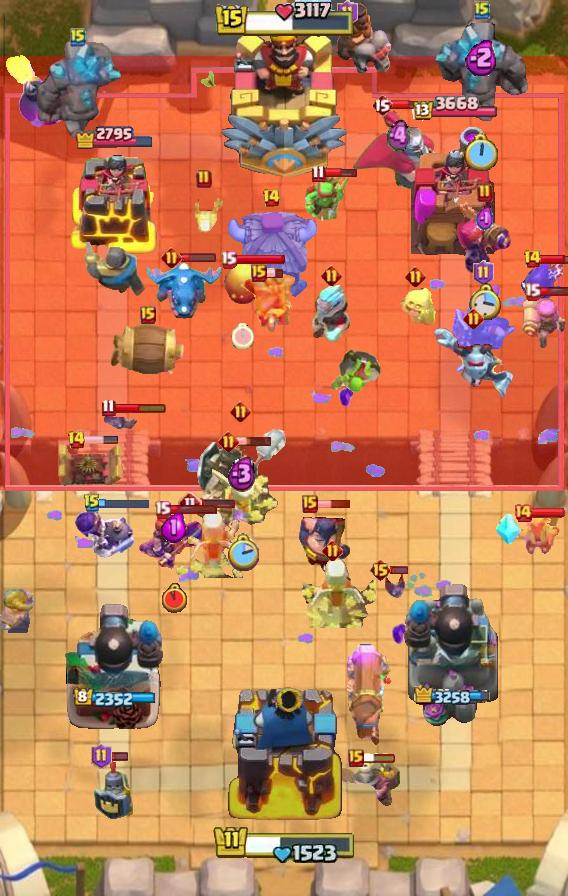bar: (114, 402, 167, 414), (234, 253, 286, 265), (99, 497, 150, 509), (168, 504, 218, 515), (236, 435, 273, 447), (361, 752, 397, 764), (530, 507, 566, 519), (200, 497, 236, 509), (323, 167, 358, 179), (391, 99, 426, 111), (180, 252, 217, 263), (83, 435, 119, 445), (316, 499, 351, 509), (539, 253, 568, 265), (538, 286, 568, 297), (110, 751, 129, 762), (265, 268, 284, 279), (390, 565, 409, 575)
bar-level: (178, 491, 202, 515), (369, 558, 392, 582), (91, 743, 112, 769), (473, 260, 494, 286), (337, 0, 358, 26), (371, 93, 393, 117), (322, 540, 343, 561), (218, 431, 239, 452), (230, 401, 251, 422), (463, 308, 484, 329), (405, 266, 426, 287), (321, 265, 342, 286), (161, 247, 182, 268), (513, 503, 533, 523), (67, 430, 86, 450), (523, 249, 542, 269), (262, 188, 281, 208), (83, 493, 101, 513), (154, 500, 171, 519), (524, 282, 541, 301), (220, 250, 237, 269), (477, 183, 493, 203), (196, 169, 212, 189), (70, 27, 86, 47), (474, 0, 490, 20), (348, 749, 364, 767), (302, 495, 318, 513), (140, 306, 156, 324), (251, 264, 267, 282), (101, 398, 116, 417), (311, 164, 326, 183)
barbarian-barrel: (108, 321, 188, 381)
bat: (102, 409, 138, 433), (383, 569, 407, 601)
bomb: (0, 53, 72, 127)
bomber-evolution: (73, 507, 135, 559)
cannoneer-tower: (402, 579, 504, 731), (64, 601, 164, 731)
clock: (464, 133, 500, 174), (226, 533, 259, 571), (469, 283, 502, 320), (162, 583, 187, 613), (232, 323, 254, 349)
dart-goblin: (242, 271, 300, 333)
electro-dragon: (146, 260, 224, 322)
electro-spirit: (521, 262, 563, 308)
elite-barbarian: (0, 587, 36, 634)
elixir: (465, 38, 499, 76), (227, 455, 257, 492), (161, 511, 187, 543), (387, 119, 410, 154), (476, 205, 494, 233)
executioner: (297, 503, 353, 575)
firecracker: (521, 292, 568, 350)
firecracker-evolution: (456, 201, 514, 275)
goblin: (516, 515, 562, 557)
goblin-ball: (329, 348, 383, 396)
guard: (91, 758, 139, 824)
heal-spirit: (394, 284, 436, 328)
ice-spirit-evolution-symbol: (496, 514, 522, 546)
ice-wizard: (308, 282, 354, 346)
king-tower: (219, 23, 349, 181), (223, 680, 345, 826)
king-tower-bar: (212, 821, 356, 863), (213, 0, 355, 40)
knight: (82, 242, 146, 297)
lava-pup: (185, 193, 223, 235)
mega-minion: (430, 325, 516, 403)
miner: (337, 757, 401, 811)
phoenix-egg: (223, 262, 263, 306)
queen-tower: (411, 122, 495, 256), (69, 154, 159, 256)
ram-rider: (335, 0, 393, 76)
spear-goblin: (304, 174, 350, 222)
tesla: (54, 440, 124, 490)
tower-bar: (410, 96, 497, 123), (74, 124, 155, 149), (414, 685, 492, 708), (73, 688, 156, 709)
valkyrie-evolution: (138, 512, 210, 570)
